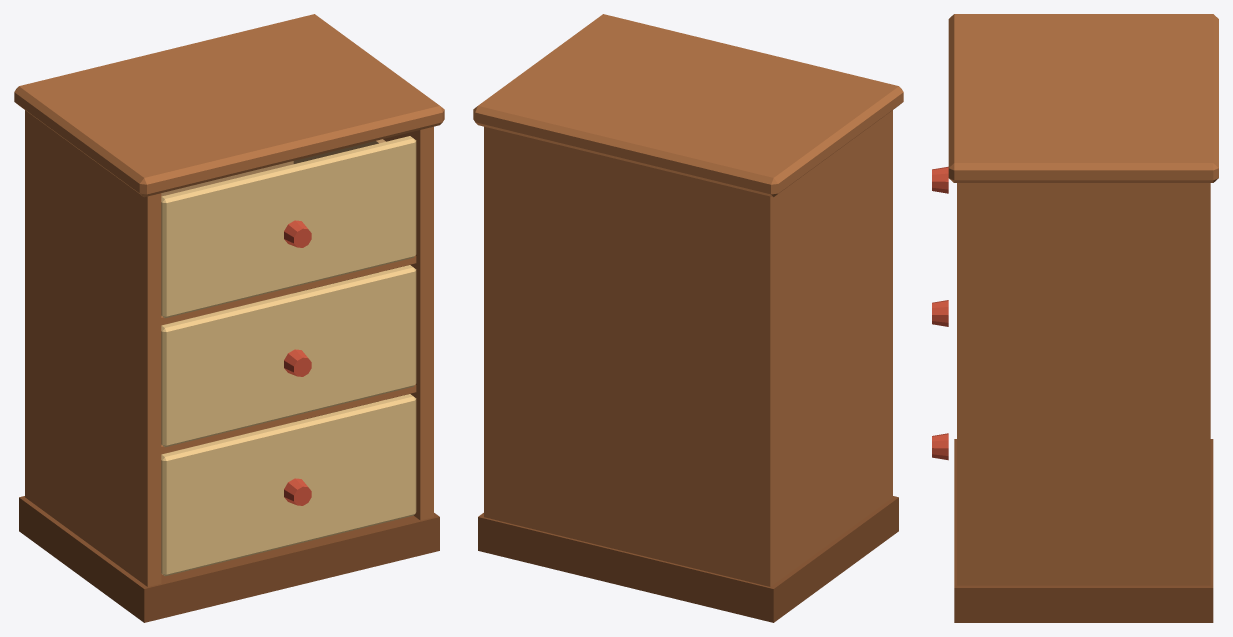
Rendered from DrawerCabinet.glb.
3 renders of one model, left to right at view 1: azimuth 30°, elevation 25°; view 2: azimuth 150°, elevation 25°; view 3: azimuth 270°, elevation 25°, orthographic. The views are drawn at different scales.
Parts seen in each view (by area): view 1: Cabinet_L, Cabinet_Top, Drawer_1_Front, Drawer_2_Front, Drawer_0_Front, Cabinet_Base, Cabinet_R, Cabinet_Back, Cabinet_Shelf2, Cabinet_Shelf1, Drawer_0_Knob, Drawer_1_Knob (+1 smaller); view 2: Cabinet_Back, Cabinet_L, Cabinet_Top, Cabinet_Base, Cabinet_R; view 3: Cabinet_R, Cabinet_Top, Cabinet_Base, Cabinet_Back, Drawer_1_Knob, Drawer_0_Knob, Drawer_2_Knob.
Boxes of the visible parts, x1=… form: Cabinet_L: x1=33, y1=116, x2=161, y2=586; Cabinet_Top: x1=14, y1=14, x2=444, y2=197; Drawer_1_Front: x1=161, y1=265, x2=416, y2=447; Drawer_2_Front: x1=161, y1=136, x2=416, y2=318; Drawer_0_Front: x1=161, y1=394, x2=416, y2=576; Cabinet_Base: x1=19, y1=496, x2=439, y2=622; Cabinet_R: x1=383, y1=126, x2=433, y2=520; Cabinet_Back: x1=25, y1=110, x2=32, y2=502; Cabinet_Shelf2: x1=161, y1=255, x2=416, y2=325; Cabinet_Shelf1: x1=161, y1=384, x2=416, y2=454; Drawer_0_Knob: x1=284, y1=478, x2=311, y2=505; Drawer_1_Knob: x1=284, y1=349, x2=311, y2=376; Cabinet_Back: x1=484, y1=126, x2=778, y2=586; Cabinet_L: x1=756, y1=110, x2=892, y2=586; Cabinet_Top: x1=473, y1=14, x2=903, y2=197; Cabinet_Base: x1=478, y1=496, x2=898, y2=622; Cabinet_R: x1=484, y1=128, x2=497, y2=519; Cabinet_R: x1=957, y1=183, x2=1210, y2=585; Cabinet_Top: x1=948, y1=14, x2=1218, y2=182; Cabinet_Base: x1=954, y1=439, x2=1213, y2=622; Cabinet_Back: x1=1194, y1=183, x2=1210, y2=585; Drawer_1_Knob: x1=932, y1=300, x2=948, y2=326; Drawer_0_Knob: x1=932, y1=433, x2=948, y2=460; Drawer_2_Knob: x1=932, y1=166, x2=948, y2=193.
Bounding box in the file's own units: 0.66 × 0.92 × 0.52.
